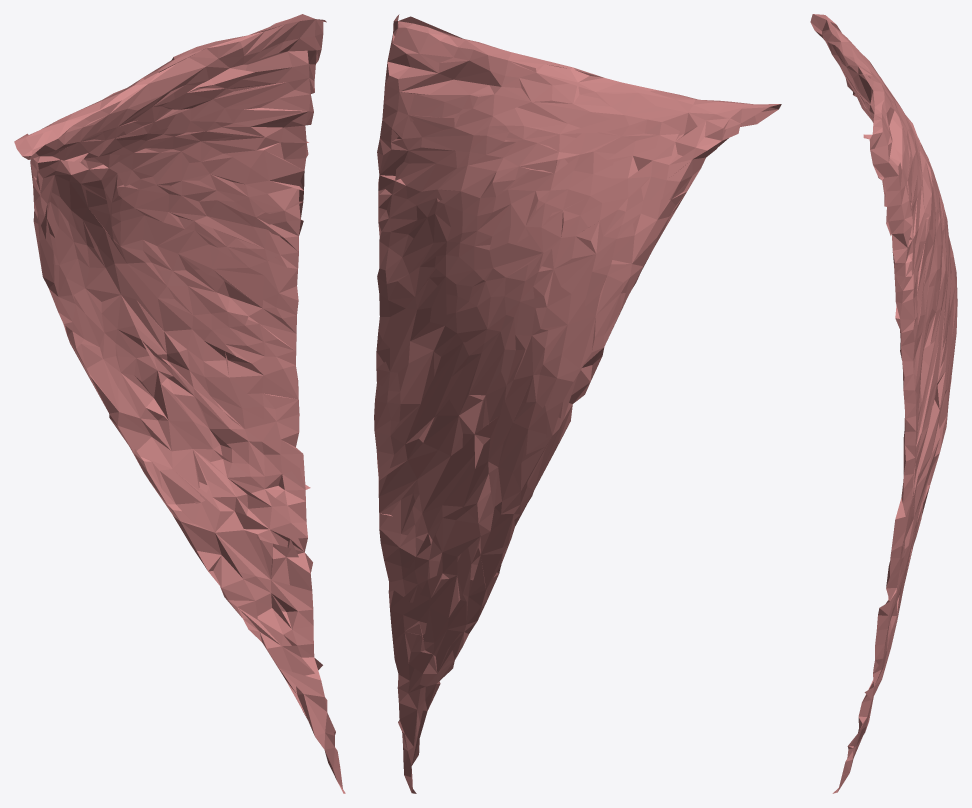
File: Descending_part_of_trapezius_muscle.r.glb
3 renders of one model, left to right at view 1: azimuth 30°, elevation 25°; view 2: azimuth 150°, elevation 25°; view 3: azimuth 270°, elevation 25°, orthographic. The views are drawn at different scales.
Visible parts, largest first — view 1: Descending_part_of_trapezius_muscle.r; view 2: Descending_part_of_trapezius_muscle.r; view 3: Descending_part_of_trapezius_muscle.r.
Part boxes in pixels (x1,y1,x2,y2): Descending_part_of_trapezius_muscle.r: (14,14,345,793); Descending_part_of_trapezius_muscle.r: (374,14,781,793); Descending_part_of_trapezius_muscle.r: (810,14,957,793).
Bounding box in the file's own units: 0.1362 × 0.2931 × 0.0589.
